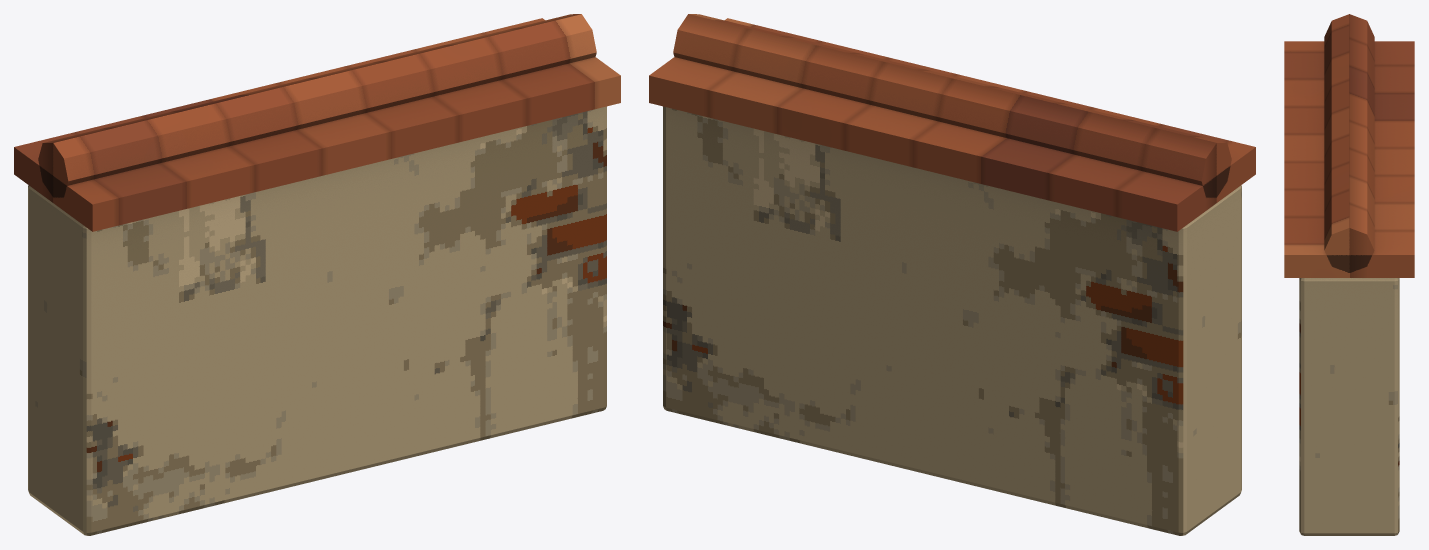
The model's file is siracusa_garden_wall.glb.
The picture shows the model from 3 angles, left to right: view 1: azimuth 30°, elevation 25°; view 2: azimuth 150°, elevation 25°; view 3: azimuth 270°, elevation 25°; orthographic projection. The views are drawn at different scales.
Parts seen in each view (by area): view 1: siracusa_garden_wall.001; view 2: siracusa_garden_wall.001; view 3: siracusa_garden_wall.001.
Boxes of the visible parts, bbox=[...] form: siracusa_garden_wall.001: bbox=[14, 14, 620, 535]; siracusa_garden_wall.001: bbox=[649, 14, 1255, 535]; siracusa_garden_wall.001: bbox=[1284, 14, 1414, 535].
Bounding box in the file's own units: 2.02 × 1.37 × 0.52.
2 materials, 2 textured.
